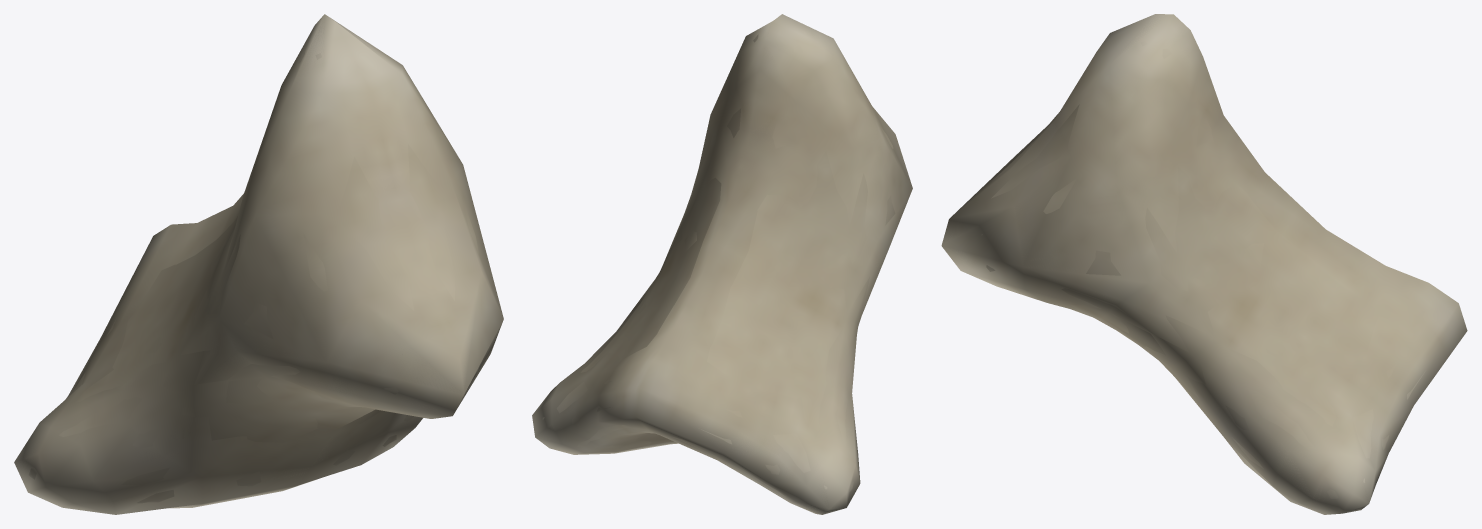
Rendered from vertebrae caudales 05.fbx.
The picture shows the model from 3 angles, left to right: view 1: azimuth 30°, elevation 25°; view 2: azimuth 150°, elevation 25°; view 3: azimuth 270°, elevation 25°; orthographic projection. The views are drawn at different scales.
Visible parts, largest first — view 1: vertebrae caudales 05, vertebrae caudales 05 high, vertebrae caudales 05 low; view 2: vertebrae caudales 05, vertebrae caudales 05 high, vertebrae caudales 05 low; view 3: vertebrae caudales 05, vertebrae caudales 05 high, vertebrae caudales 05 low.
Part boxes in pixels (left/top/right/bottom): vertebrae caudales 05: left=14, top=14, right=503, bottom=514; vertebrae caudales 05 high: left=28, top=42, right=479, bottom=503; vertebrae caudales 05 low: left=15, top=26, right=502, bottom=512; vertebrae caudales 05: left=532, top=14, right=912, bottom=514; vertebrae caudales 05 high: left=542, top=31, right=895, bottom=496; vertebrae caudales 05 low: left=533, top=21, right=911, bottom=513; vertebrae caudales 05: left=941, top=14, right=1467, bottom=514; vertebrae caudales 05 high: left=981, top=40, right=1425, bottom=498; vertebrae caudales 05 low: left=942, top=14, right=1466, bottom=512.
Size of the model in its own units: 1.15 by 1.43 by 1.56.
Materials: 1 (1 with a texture image).
